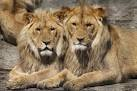lion: (62, 5, 137, 87), (7, 8, 63, 91)
